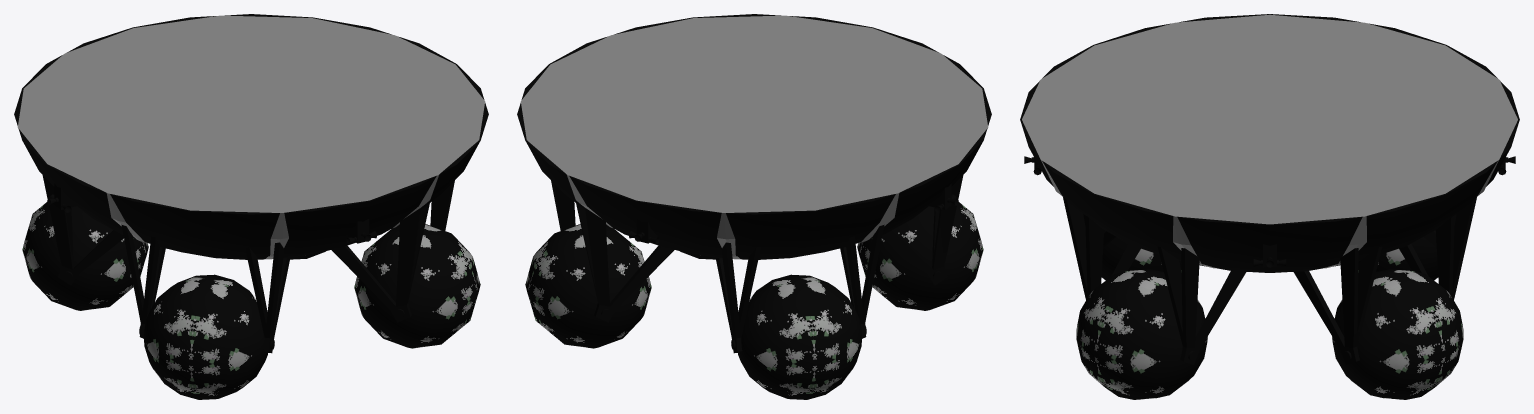
File: Vega_EngineMount.dae
3 renders of one model, left to right at view 1: azimuth 30°, elevation 25°; view 2: azimuth 150°, elevation 25°; view 3: azimuth 270°, elevation 25°, orthographic. The views are drawn at different scales.
Visible parts, largest first — view 1: pCylinder158, Vega_Engine_Mount_MergedNew_RCS; view 2: pCylinder158, Vega_Engine_Mount_MergedNew_RCS; view 3: pCylinder158, Vega_Engine_Mount_MergedNew_RCS.
Part boxes in pixels (left/top/right/bottom): pCylinder158: left=17, top=15, right=485, bottom=259; Vega_Engine_Mount_MergedNew_RCS: left=14, top=14, right=488, bottom=399; pCylinder158: left=520, top=15, right=988, bottom=259; Vega_Engine_Mount_MergedNew_RCS: left=517, top=14, right=991, bottom=399; pCylinder158: left=1022, top=14, right=1517, bottom=268; Vega_Engine_Mount_MergedNew_RCS: left=1020, top=14, right=1519, bottom=399.
Size of the model in its own units: 1.83 by 0.8951 by 1.83.
